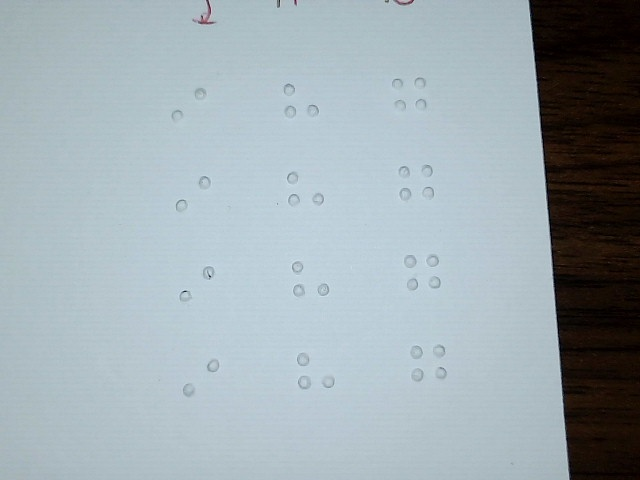G: (389, 66, 429, 135), (396, 152, 436, 221), (402, 243, 442, 312), (409, 332, 449, 401)
H: (291, 249, 331, 319), (281, 72, 321, 141), (285, 160, 325, 229), (296, 342, 336, 411)
I: (170, 77, 210, 146), (173, 164, 213, 233), (182, 347, 222, 416)
